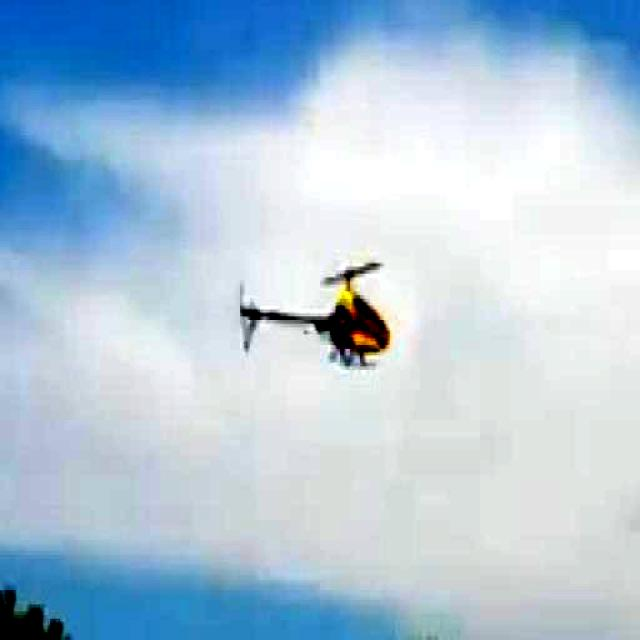drone: (230, 248, 400, 382)
